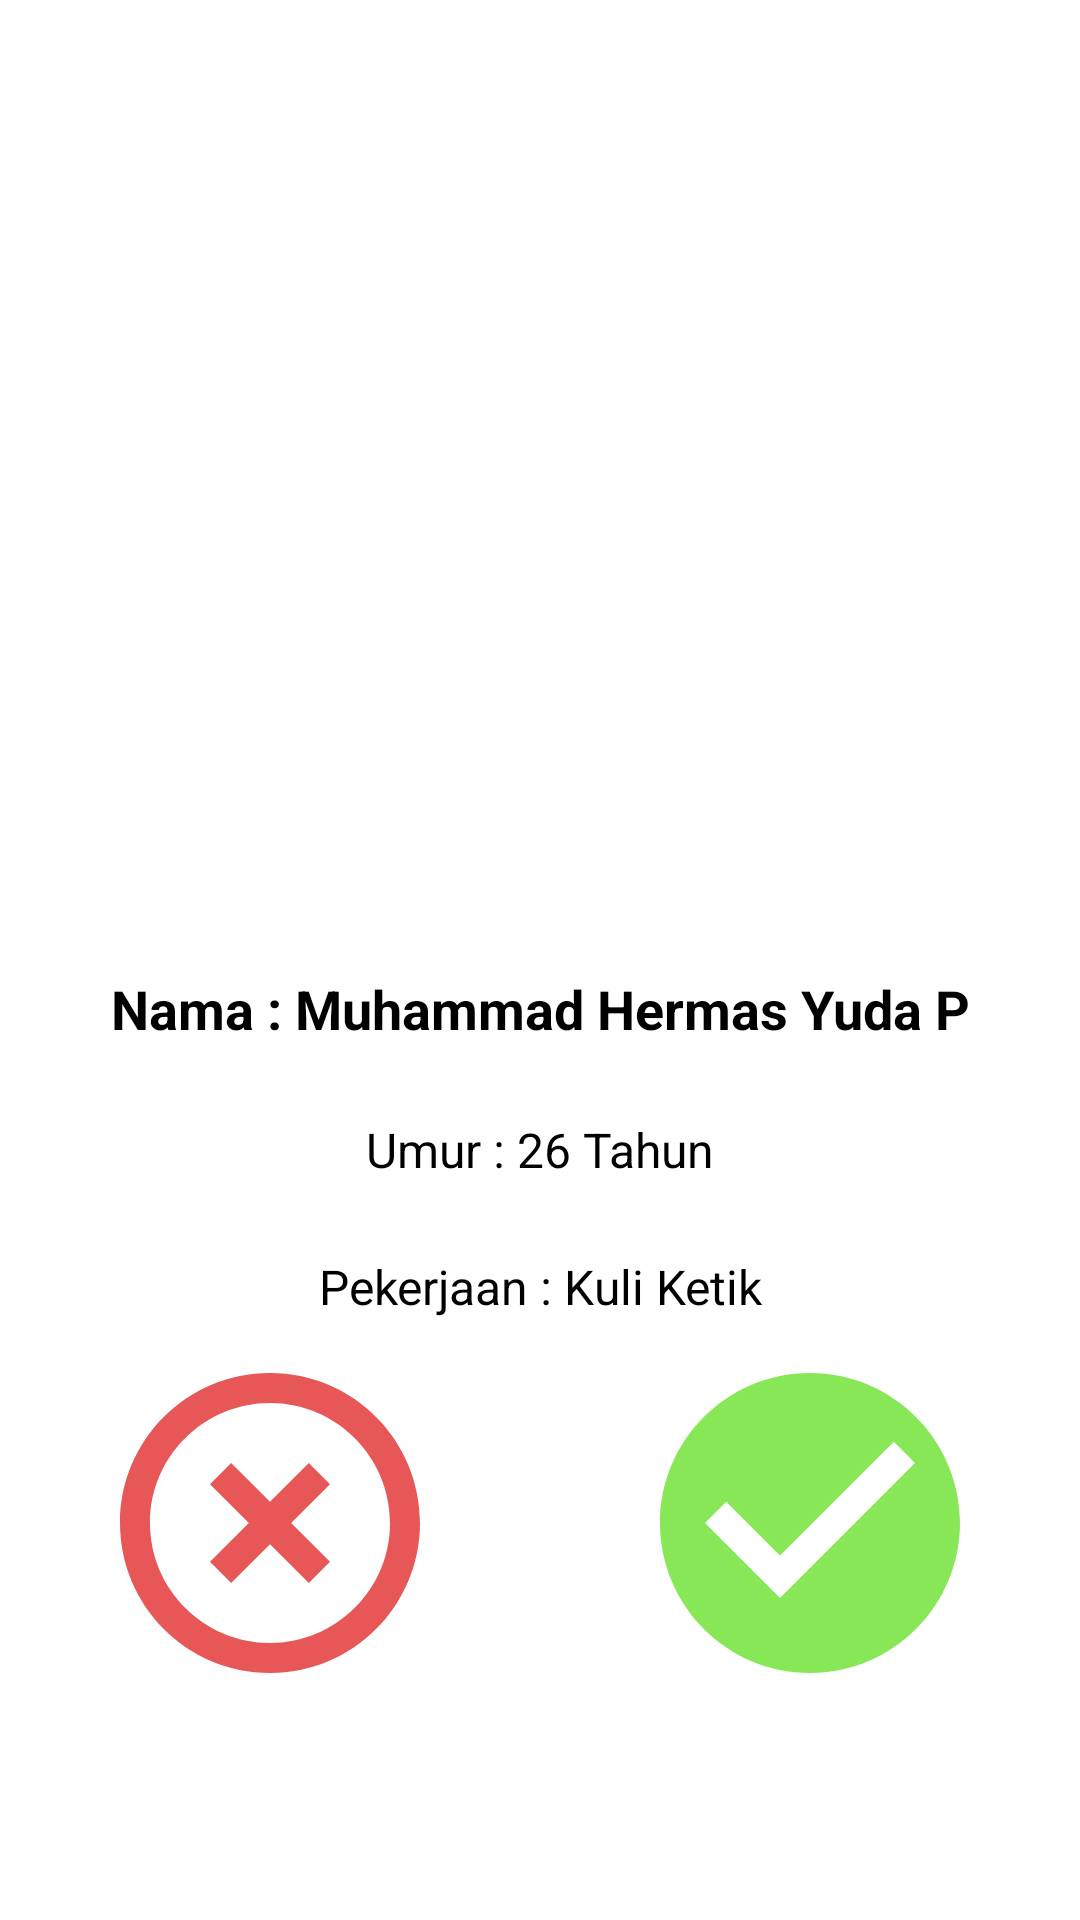

Icons on this 1080px×1920px Android screen, each with the point to tap as (x,y):
decline: (270,1523)
okay: (810,1523)
